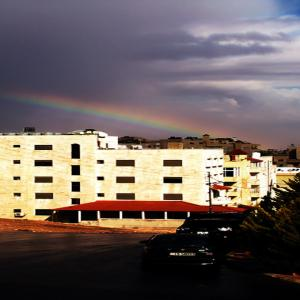Vehicle-registration-plate: (171, 254, 197, 257)
